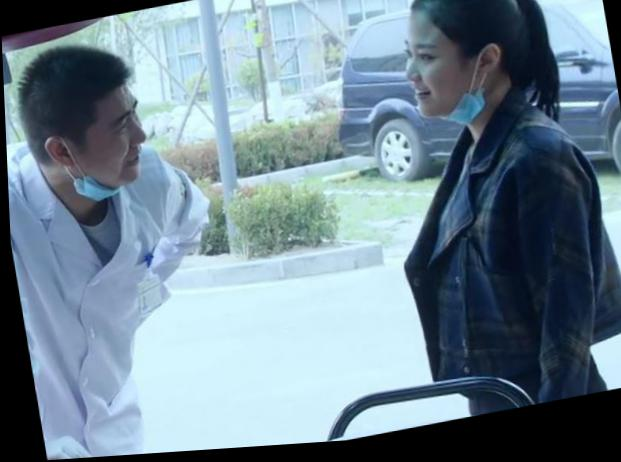WRONG: (80, 95, 155, 202), (400, 26, 470, 133)
